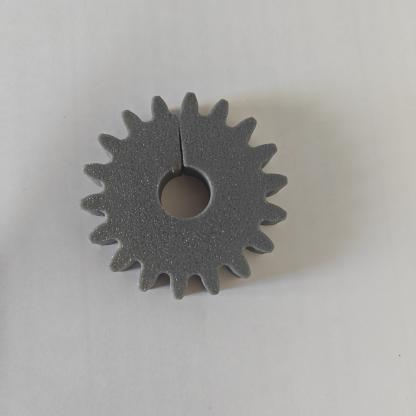defect: (131, 81, 228, 192)
gear: (70, 73, 302, 314)
